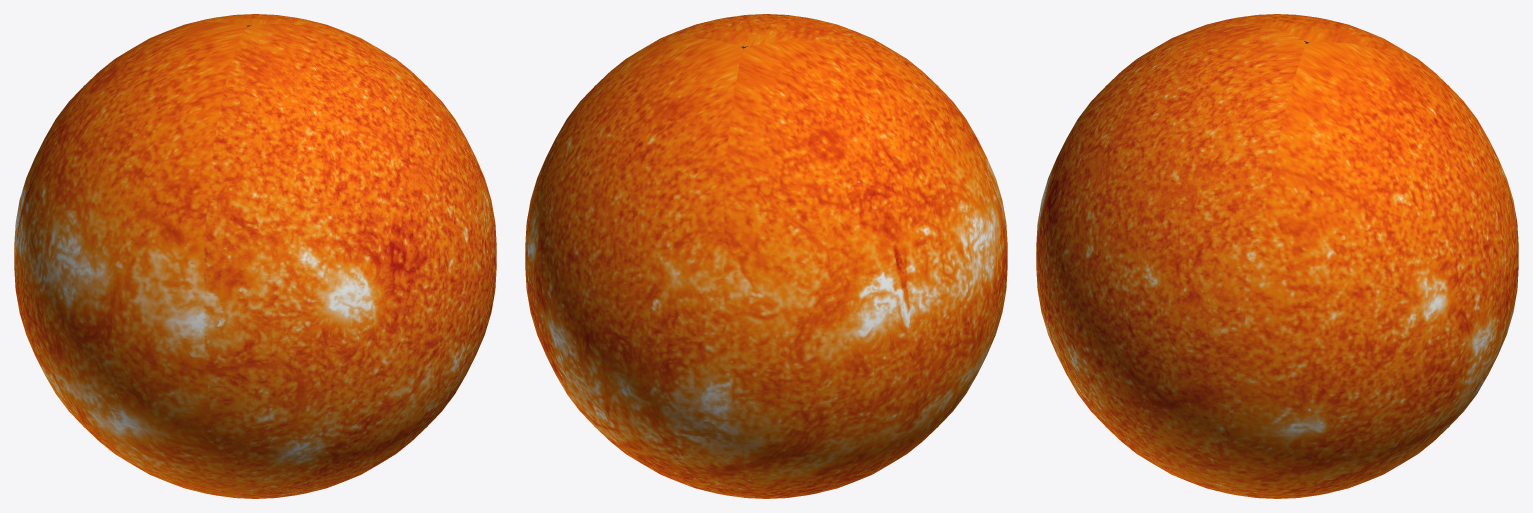
Rendered from sun.gltf.
3 renders of one model, left to right at view 1: azimuth 30°, elevation 25°; view 2: azimuth 150°, elevation 25°; view 3: azimuth 270°, elevation 25°, orthographic.
Visible parts, largest first — view 1: Sphere; view 2: Sphere; view 3: Sphere.
Part boxes in pixels (x1=…): Sphere: x1=14, y1=14, x2=496, y2=498; Sphere: x1=525, y1=14, x2=1007, y2=498; Sphere: x1=1036, y1=14, x2=1518, y2=498.
Bounding box in the file's own units: 2 × 2 × 1.99.
1 material, 1 textured.
